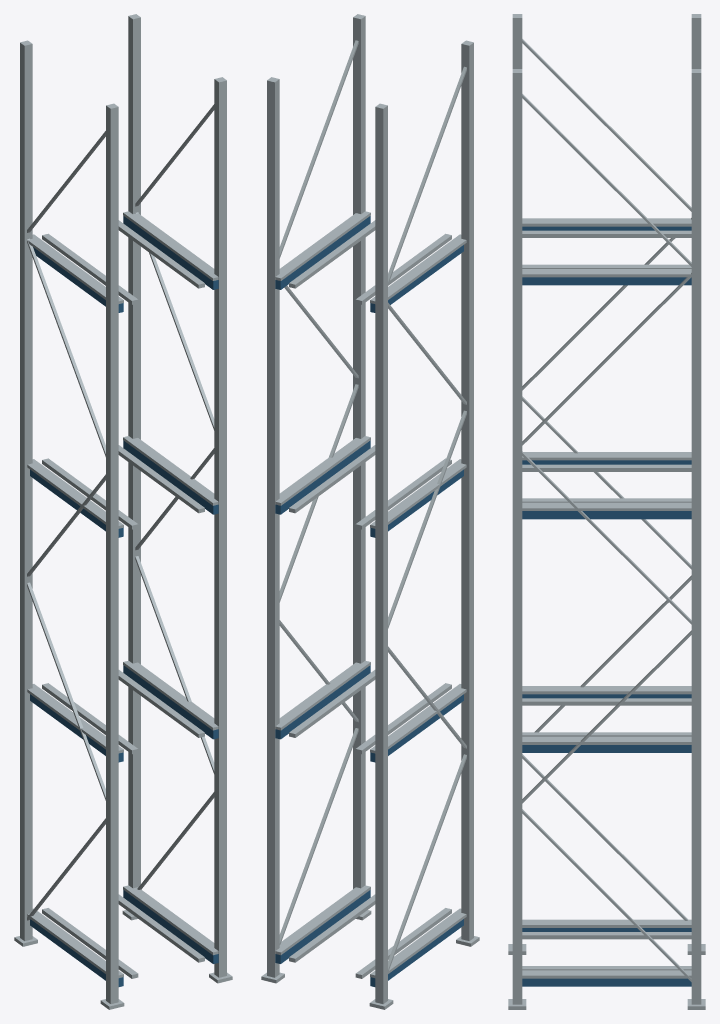
File: dense-rack-4.glb
3 renders of one model, left to right at view 1: azimuth 30°, elevation 25°; view 2: azimuth 150°, elevation 25°; view 3: azimuth 270°, elevation 25°, orthographic. The views are drawn at different scales.
Parts seen in each view (by area): view 1: dense-rack-4_galvanized_steel, dense-rack-4_beam_blue; view 2: dense-rack-4_galvanized_steel, dense-rack-4_beam_blue; view 3: dense-rack-4_galvanized_steel, dense-rack-4_beam_blue.
Part boxes in pixels (bbox=[...]): dense-rack-4_galvanized_steel: bbox=[14, 14, 232, 1009]; dense-rack-4_beam_blue: bbox=[30, 216, 218, 986]; dense-rack-4_galvanized_steel: bbox=[261, 14, 479, 1009]; dense-rack-4_beam_blue: bbox=[275, 216, 463, 986]; dense-rack-4_galvanized_steel: bbox=[508, 14, 705, 1009]; dense-rack-4_beam_blue: bbox=[522, 226, 691, 986].
Bounding box in the file's own units: 1.15 × 8 × 1.53.
